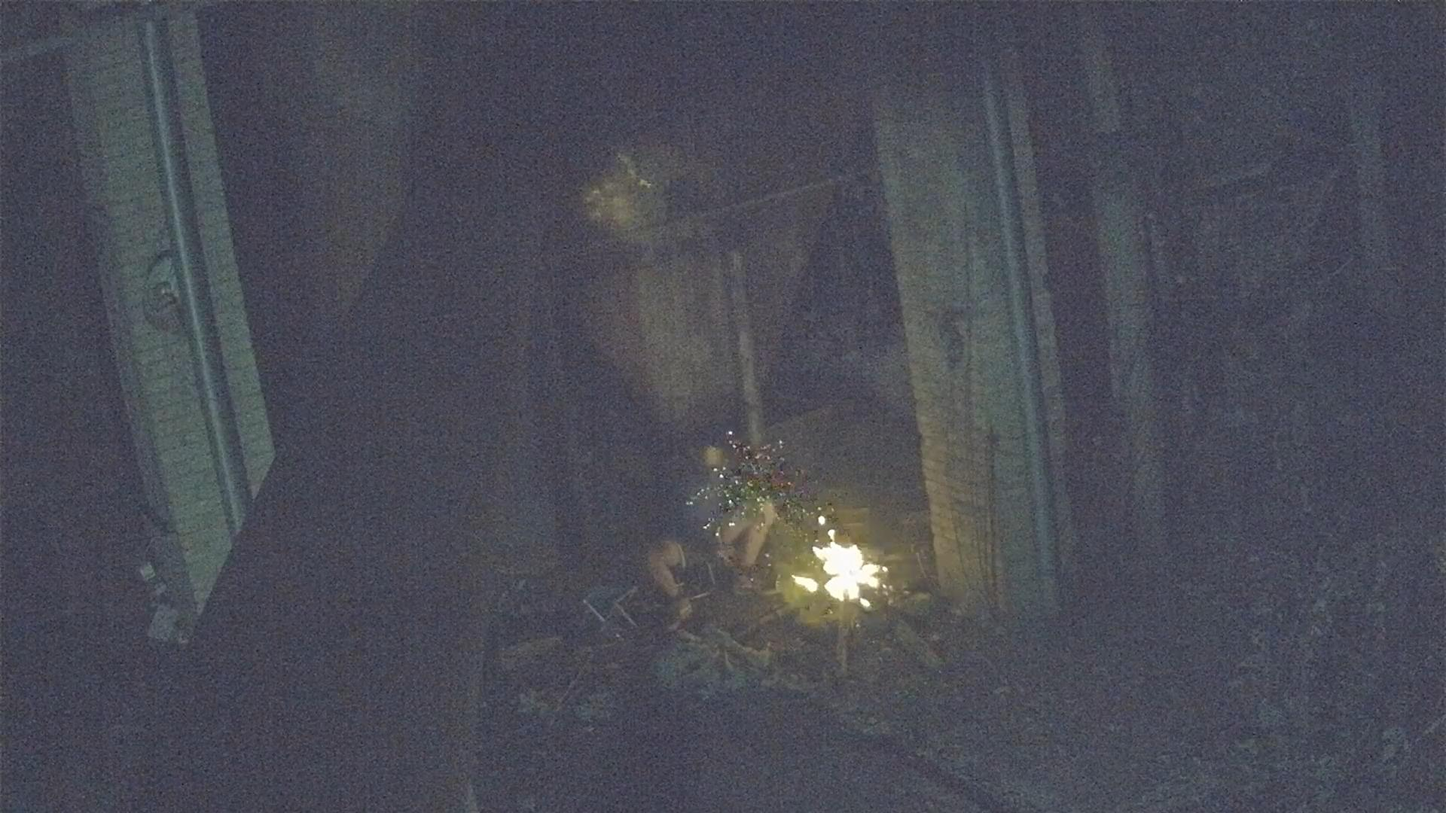fire: (814, 543, 883, 606), (792, 576, 819, 592)
